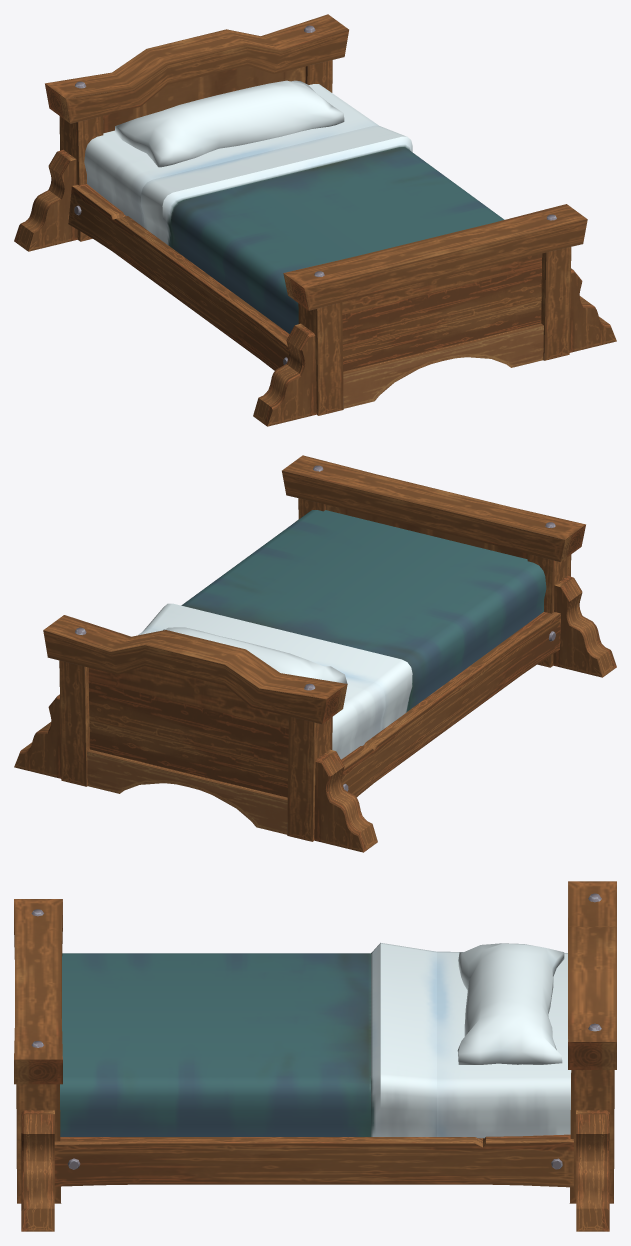
Rendered from bed_twin1.glb.
The picture shows the model from 3 angles, top to bottom: view 1: azimuth 30°, elevation 25°; view 2: azimuth 150°, elevation 25°; view 3: azimuth 270°, elevation 25°; orthographic projection. The views are drawn at different scales.
Parts seen in each view (by area): view 1: Bed_Twin1; view 2: Bed_Twin1; view 3: Bed_Twin1.
Part boxes in pixels (x1,y1,x2,y2): Bed_Twin1: [14, 14, 616, 426]; Bed_Twin1: [14, 455, 616, 852]; Bed_Twin1: [14, 881, 616, 1231].
Bounding box in the file's own units: 1.88 × 0.8051 × 2.41.
Materials: 3 (3 with a texture image).
